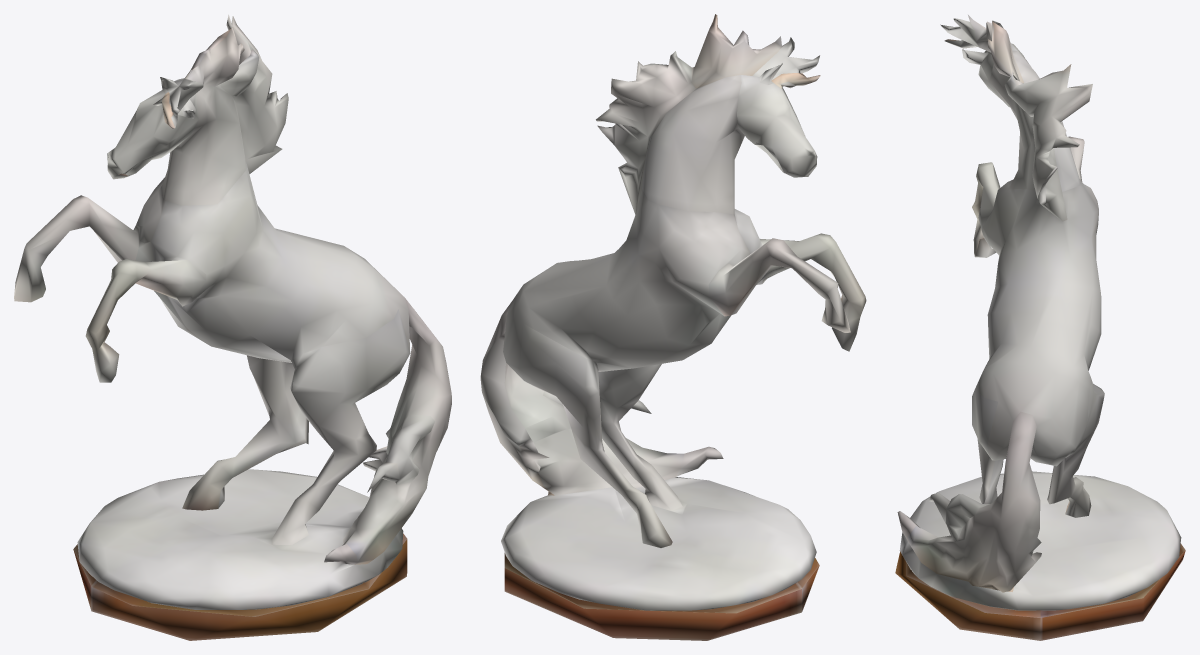
File: design-horse-statue-01.glb
3 renders of one model, left to right at view 1: azimuth 30°, elevation 25°; view 2: azimuth 150°, elevation 25°; view 3: azimuth 270°, elevation 25°, orthographic. The views are drawn at different scales.
Visible parts, largest first — view 1: horse_statue_01; view 2: horse_statue_01; view 3: horse_statue_01.
Boxes of the visible parts, x1=… form: horse_statue_01: x1=14, y1=14, x2=451, y2=640; horse_statue_01: x1=480, y1=14, x2=866, y2=640; horse_statue_01: x1=895, y1=15, x2=1185, y2=640.
Size of the model in its own units: 0.1626 by 0.2198 by 0.1078.
1 material, 1 textured.
